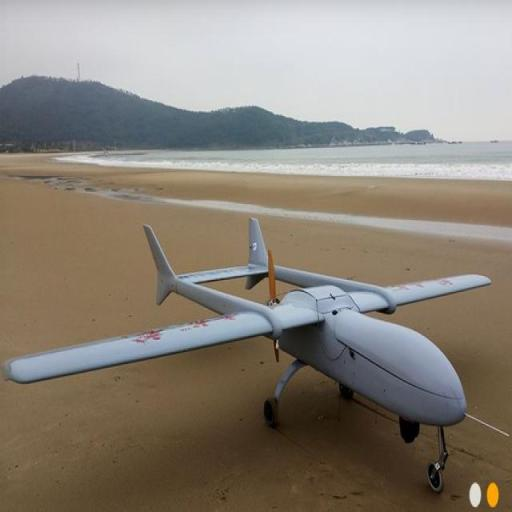uav: (2, 212, 498, 486)
